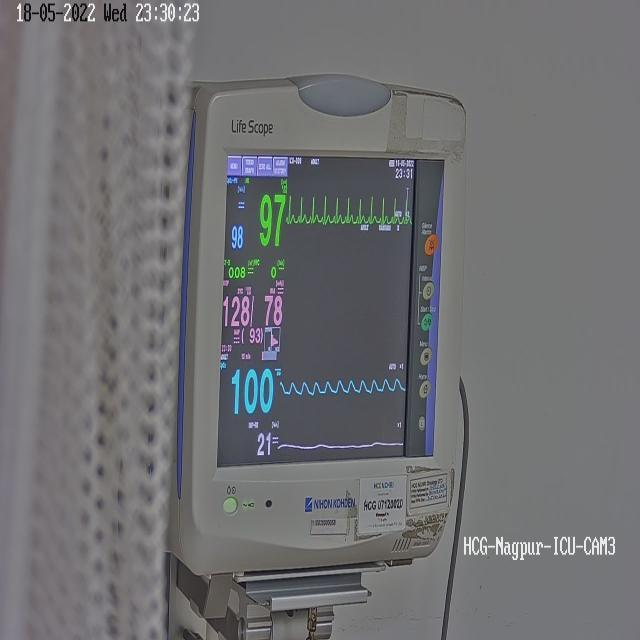Monitor: (177, 41, 473, 640)
